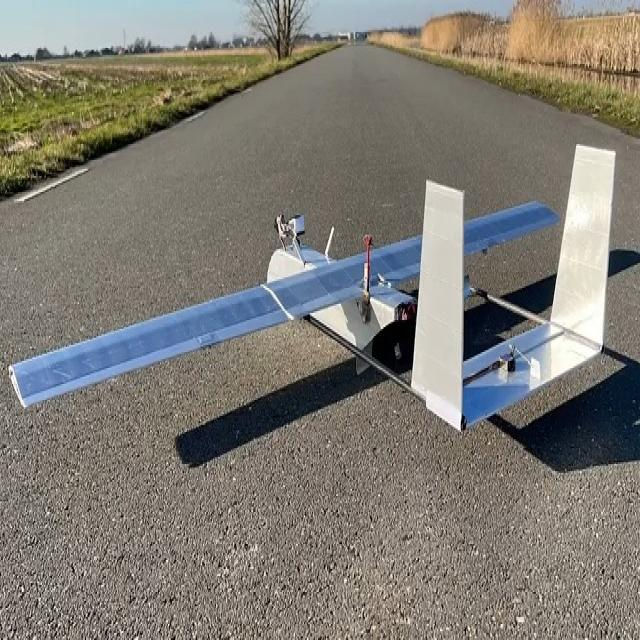drones: (3, 137, 621, 438)
